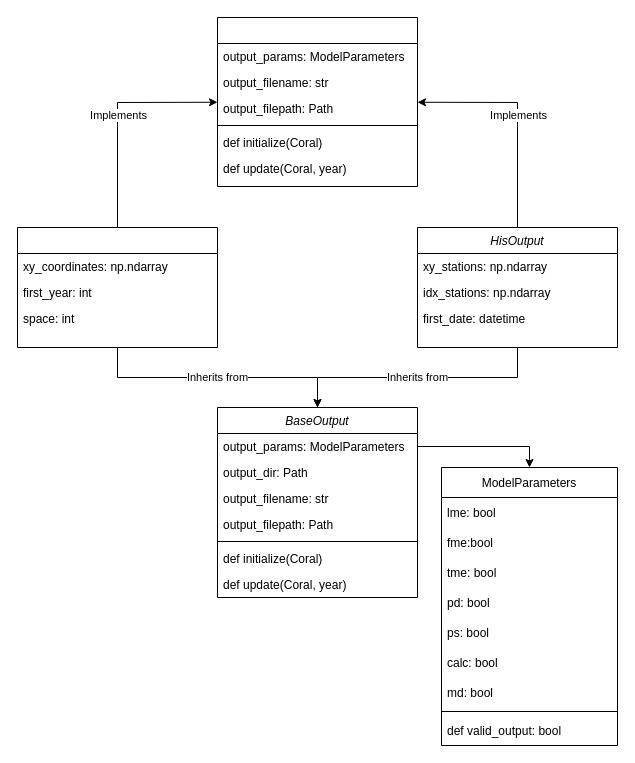
This 635x763 diagram has some shape labels left out. The box of each missing label's shape, as (x1, y1, x2, y2) in pixels:
MapOutput: (16, 226, 218, 348)
OutputProtocol: (216, 16, 418, 186)
